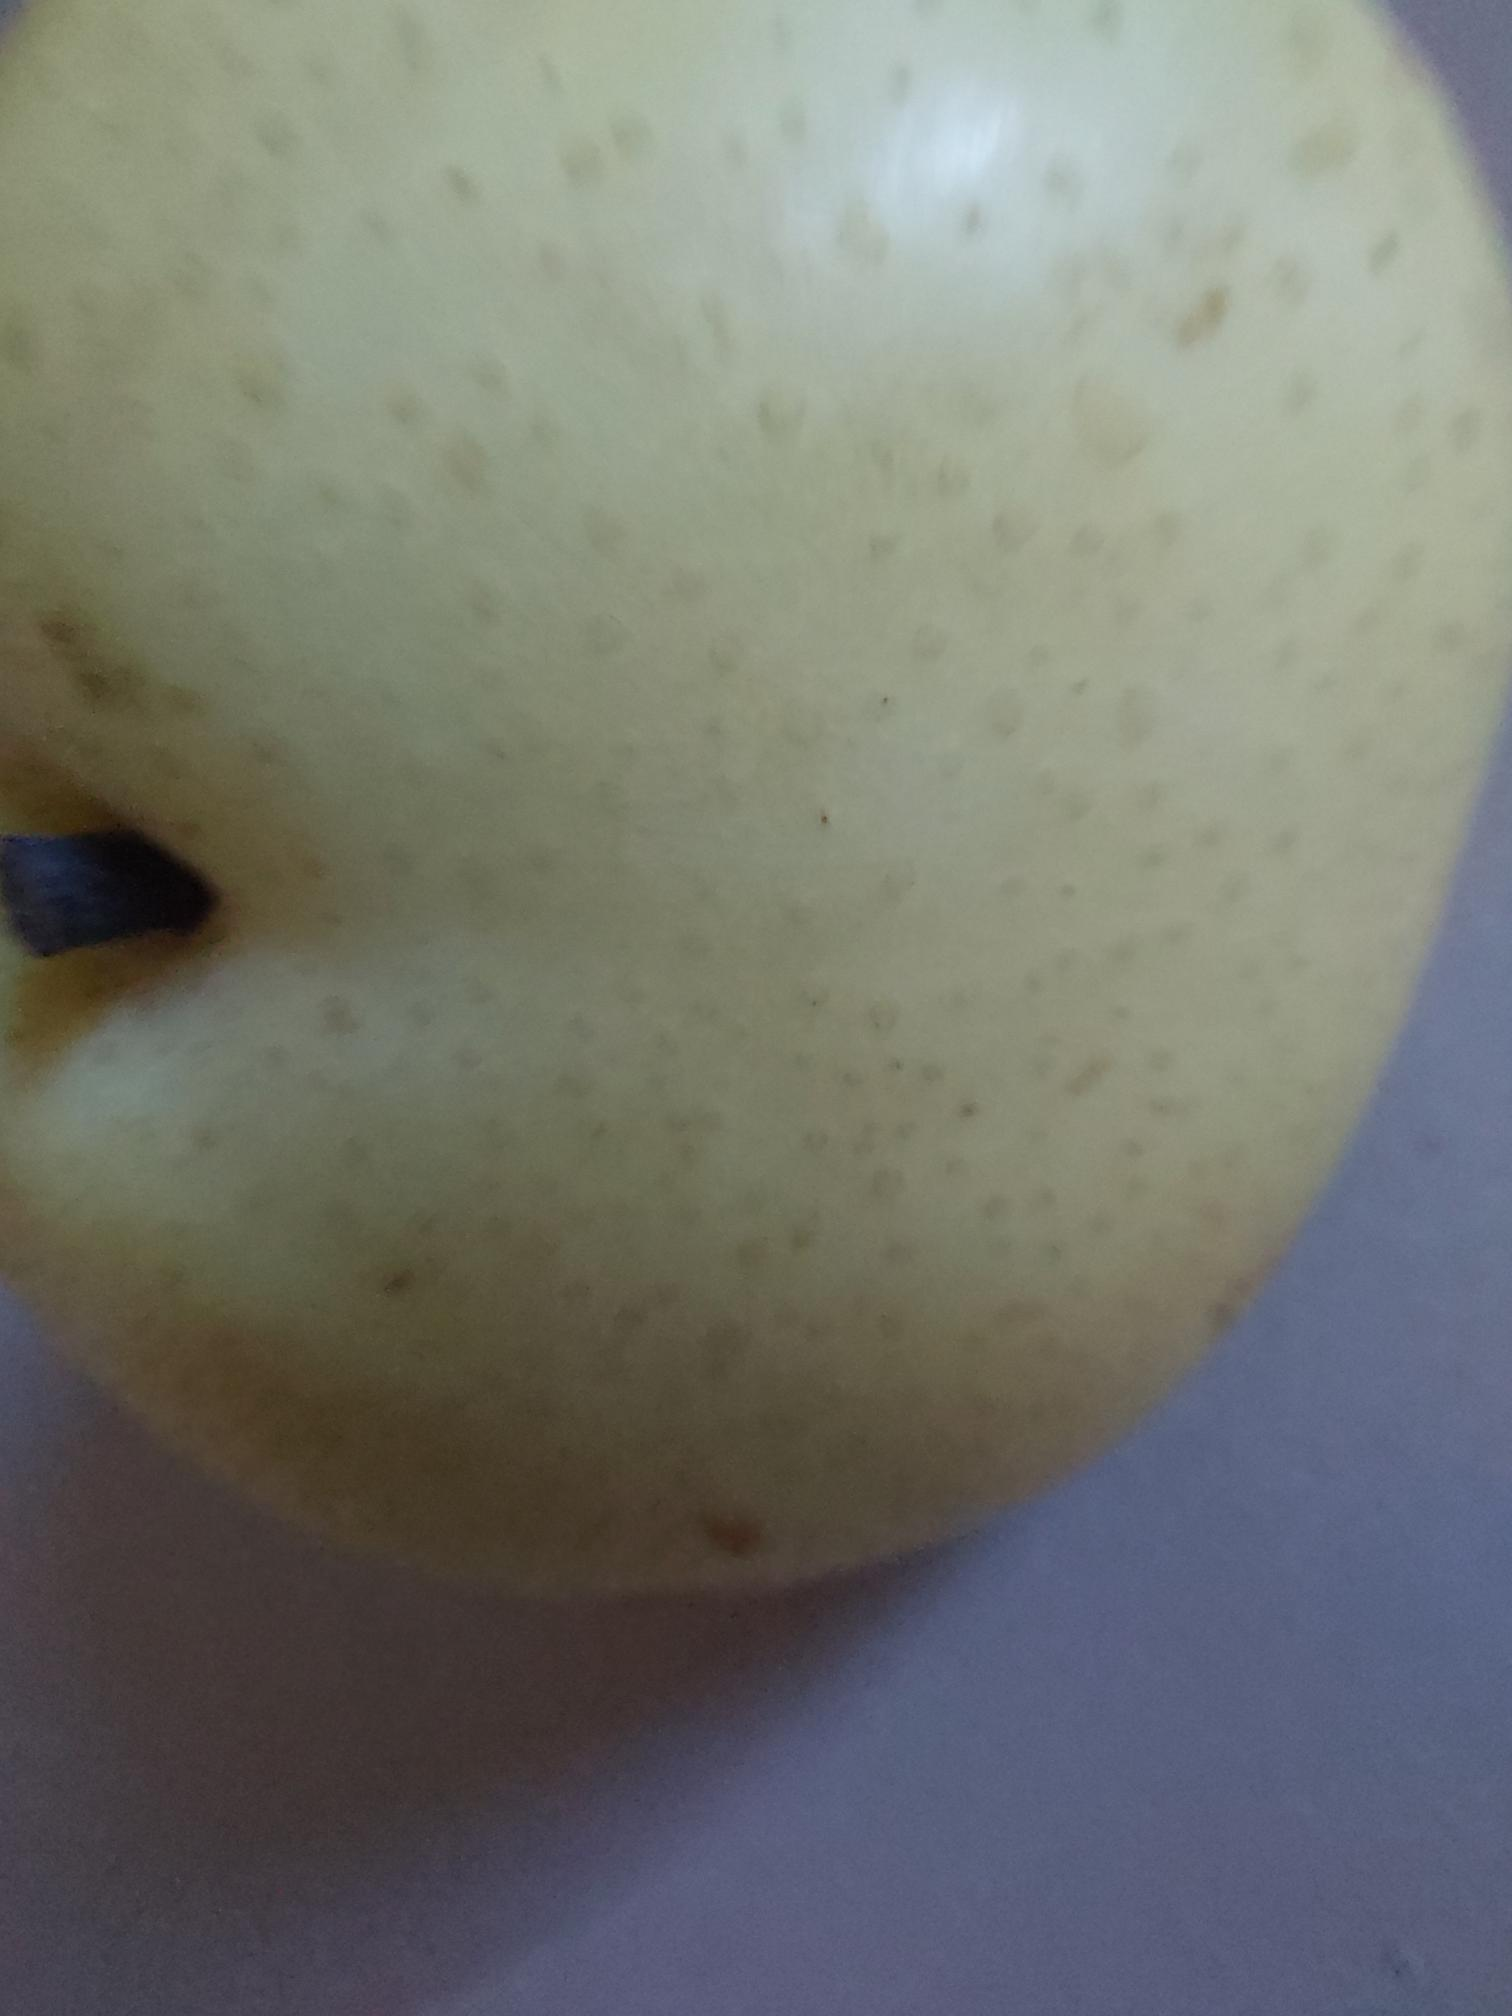Good Pear: (0, 0, 1512, 1657)
